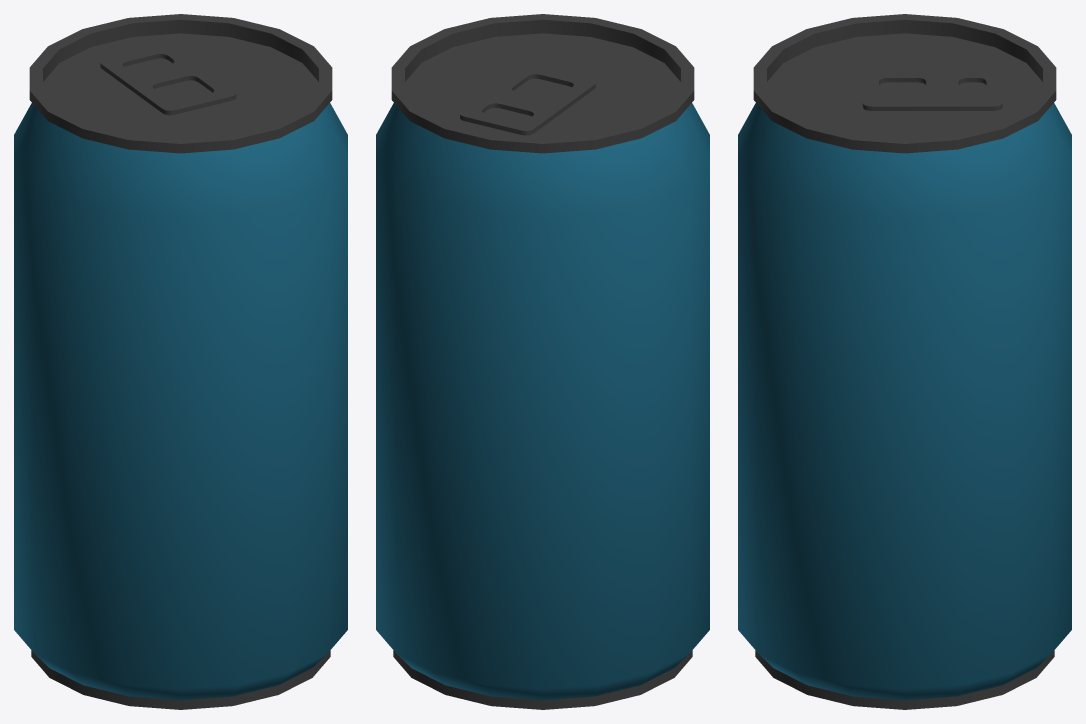
File: Canette.fbx
The picture shows the model from 3 angles, left to right: view 1: azimuth 30°, elevation 25°; view 2: azimuth 150°, elevation 25°; view 3: azimuth 270°, elevation 25°; orthographic projection.
Parts seen in each view (by area): view 1: Canette; view 2: Canette; view 3: Canette.
Boxes of the visible parts, left/top/right/bottom form: Canette: left=14, top=14, right=347, bottom=709; Canette: left=376, top=14, right=709, bottom=709; Canette: left=738, top=14, right=1071, bottom=709.
Bounding box in the file's own units: 9.68 × 17.85 × 9.53.
